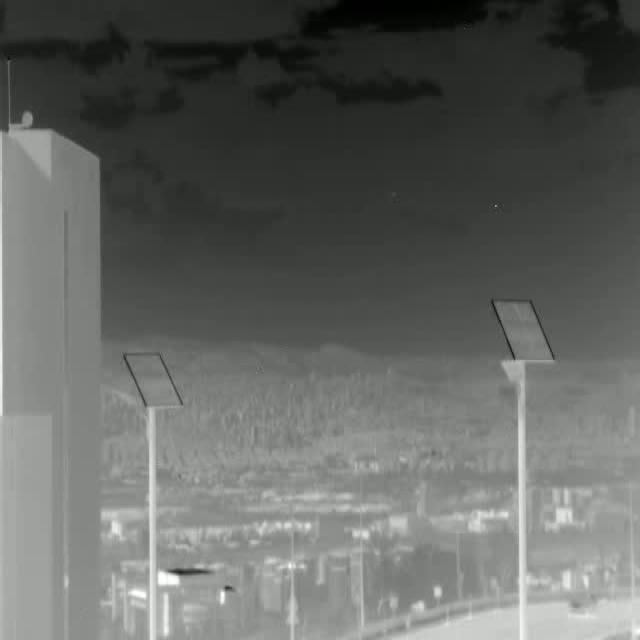Car: (568, 589, 600, 620)
